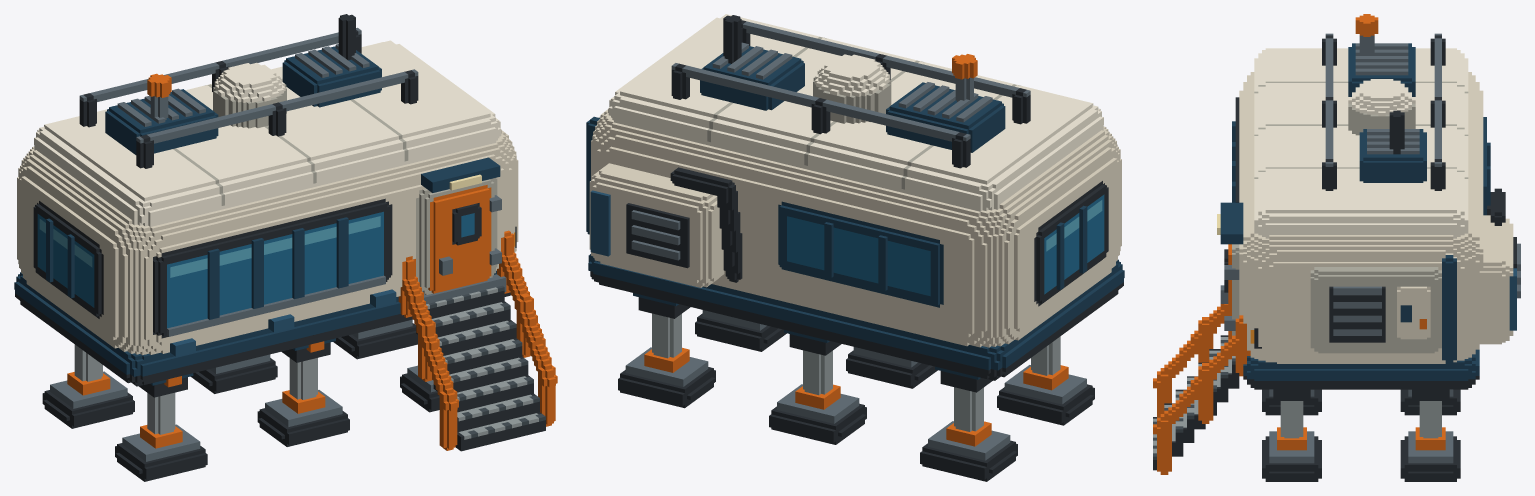
Rendered from research_station.glb.
3 views of the same model, side by side, from view 1: azimuth 30°, elevation 25°; view 2: azimuth 150°, elevation 25°; view 3: azimuth 270°, elevation 25° (orthographic). The views are drawn at different scales.
Visible parts, largest first — view 1: research_station; view 2: research_station; view 3: research_station.
Part boxes in pixels (bbox=[...]): research_station: bbox=[14, 14, 557, 481]; research_station: bbox=[586, 14, 1124, 481]; research_station: bbox=[1153, 14, 1520, 481].
Size of the model in its own units: 8.12 by 6.37 by 6.37.
